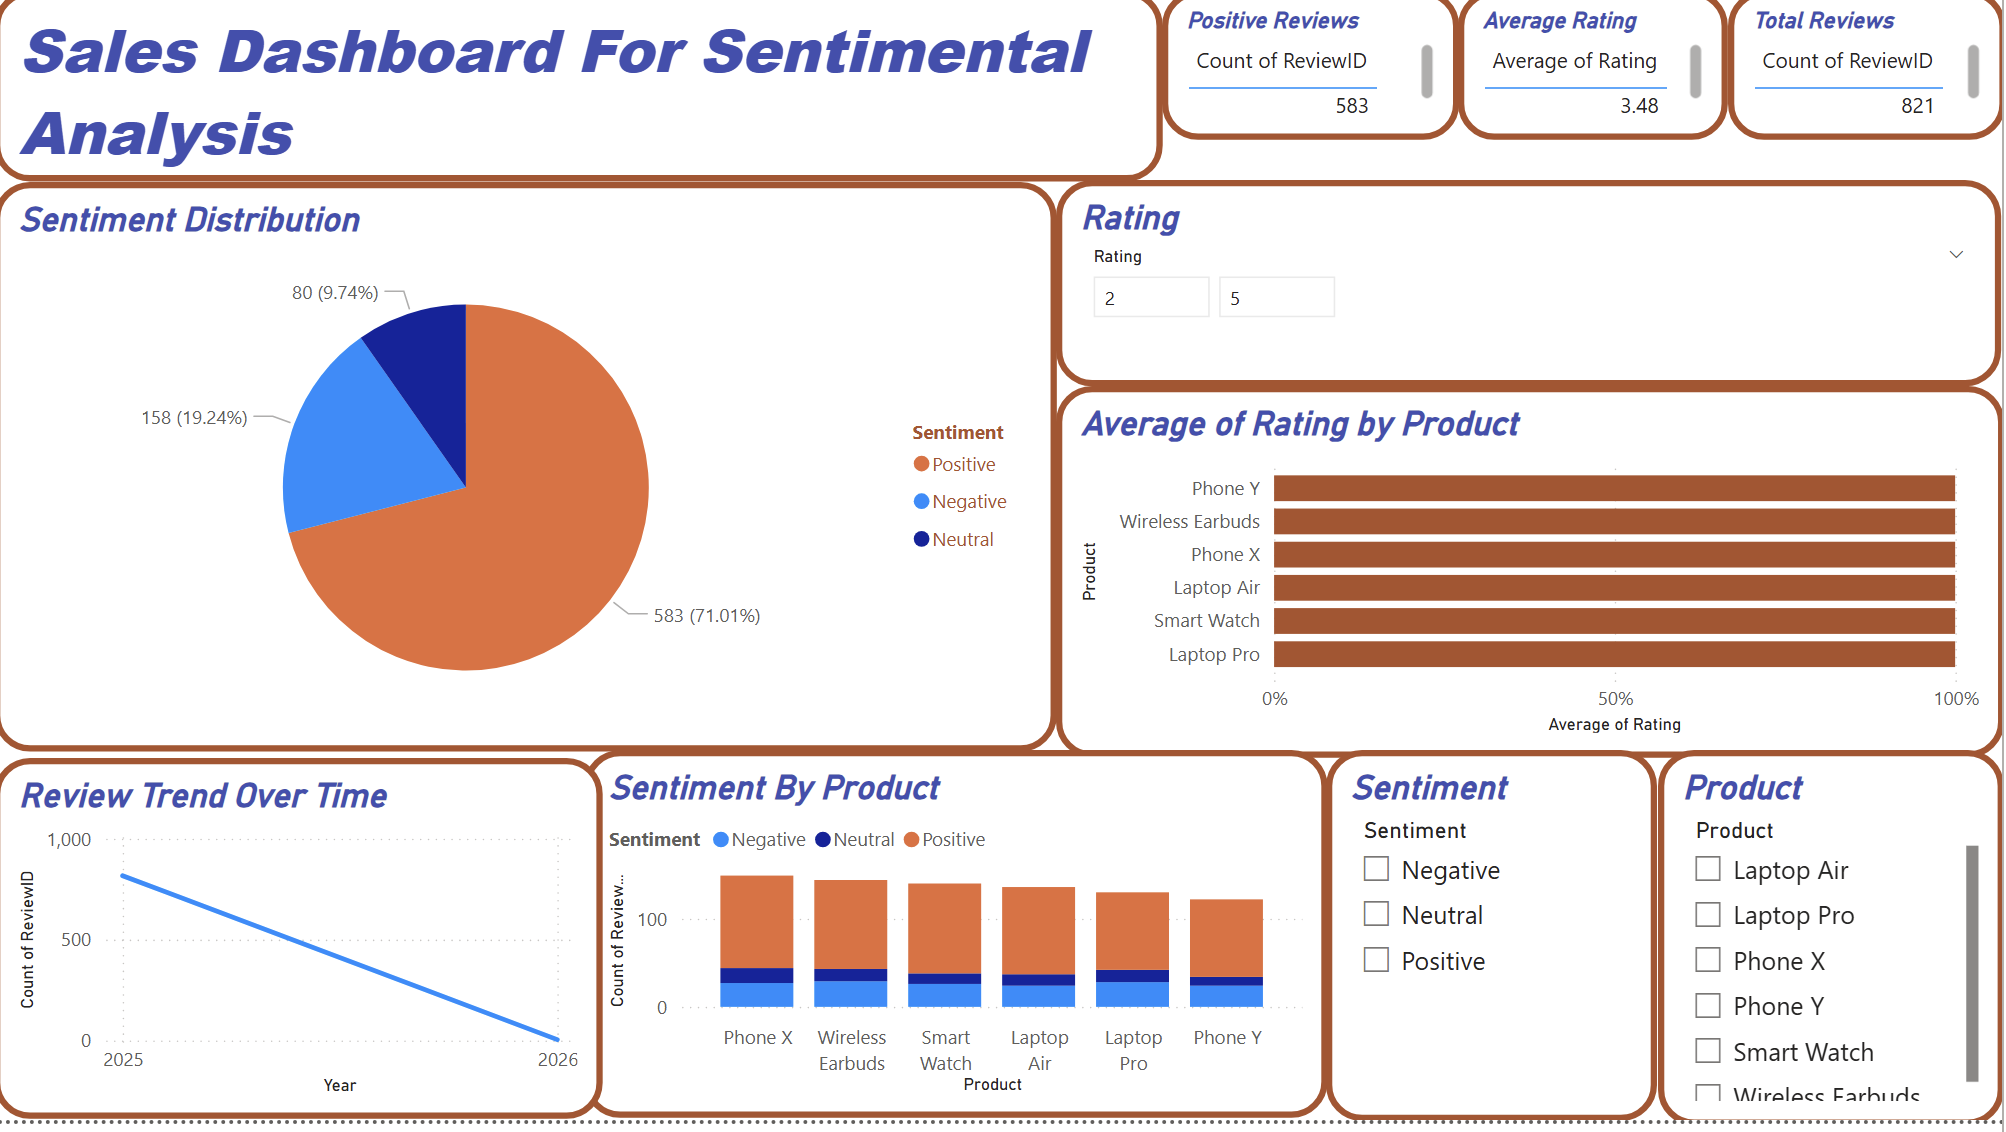

The page's visual inventory and layout, read from the dashboard file:
{"tool":"powerbi","page":{"name":"Page 1","canvas":[1280,720],"ordinal":0},"visuals":[{"type":"tableEx","title":"Total Reviews ","fields":{"Values":["CountNonNull(review_sentiment_clean.ReviewID)"]},"box":[1104.7,0,176.8,95.5],"z":0},{"type":"tableEx","title":"Average Rating ","fields":{"Values":["Avg(review_sentiment_clean.Rating)"]},"box":[932.6,0,172.1,95.5],"z":1},{"type":"tableEx","title":"Positive Reviews ","fields":{"Values":["CountNonNull(review_sentiment_clean.ReviewID)"]},"box":[744.8,0,189.3,95.5],"z":2},{"type":"pieChart","title":" Sentiment Distribution","fields":{"Category":["review_sentiment_clean.Sentiment"],"Y":["CountNonNull(review_sentiment_clean.ReviewID)"]},"box":[0,122.1,677.6,363],"z":3},{"type":"hundredPercentStackedBarChart","fields":{"Category":["review_sentiment_clean.Product"],"Y":["Avg(review_sentiment_clean.Rating)"]},"box":[677.6,251.9,604,237.8],"z":4},{"type":"columnChart","title":"Sentiment By Product","fields":{"Category":["review_sentiment_clean.Product"],"Series":["review_sentiment_clean.Sentiment"],"Y":["CountNonNull(review_sentiment_clean.ReviewID)"]},"box":[375.6,485.1,474.1,234.7],"z":5},{"type":"lineChart","title":"Review Trend Over Time","fields":{"Category":["review_sentiment_clean.ReviewDate.Variation.Date Hierarchy.Year","review_sentiment_clean.ReviewDate.Variation.Date Hierarchy.Quarter","review_sentiment_clean.ReviewDate.Variation.Date Hierarchy.Month","review_sentiment_clean.ReviewDate.Variation.Date Hierarchy.Day"],"Y":["CountNonNull(review_sentiment_clean.ReviewID)"]},"box":[0,489.8,388.1,230],"z":6},{"type":"slicer","title":"Product","fields":{"Values":["review_sentiment_clean.Product"]},"box":[1060.9,485.1,220.6,239.4],"z":7},{"type":"slicer","title":"Rating","fields":{"Values":["review_sentiment_clean.Rating"]},"box":[677.6,120.5,602.4,131.4],"z":8},{"type":"slicer","title":"Sentiment","fields":{"Values":["review_sentiment_clean.Sentiment"]},"box":[849.7,485.1,211.2,236.3],"z":9},{"type":"textbox","title":"Sales Dashboard For Sentimental Analysis","box":[0,0,744.8,122.1],"z":10}]}

Visuals, with their boxes in screenshot pixels (x1, y1, x2, y2), scaled from the page's 1280x720 canvas onto the 2006x1132 screenshot:
"Total Reviews " tableEx: Rect(1731, 0, 2005, 150)
"Average Rating " tableEx: Rect(1462, 0, 1731, 150)
"Positive Reviews " tableEx: Rect(1167, 0, 1464, 150)
" Sentiment Distribution" pieChart: Rect(0, 192, 1062, 763)
hundredPercentStackedBarChart - review_sentiment_clean.Product x Avg(review_sentiment_clean.Rating): Rect(1062, 396, 2005, 770)
"Sentiment By Product" columnChart: Rect(589, 763, 1332, 1131)
"Review Trend Over Time" lineChart: Rect(0, 770, 608, 1131)
"Product" slicer: Rect(1663, 763, 2005, 1131)
"Rating" slicer: Rect(1062, 189, 2005, 396)
"Sentiment" slicer: Rect(1332, 763, 1663, 1131)
"Sales Dashboard For Sentimental Analysis" textbox: Rect(0, 0, 1167, 192)
